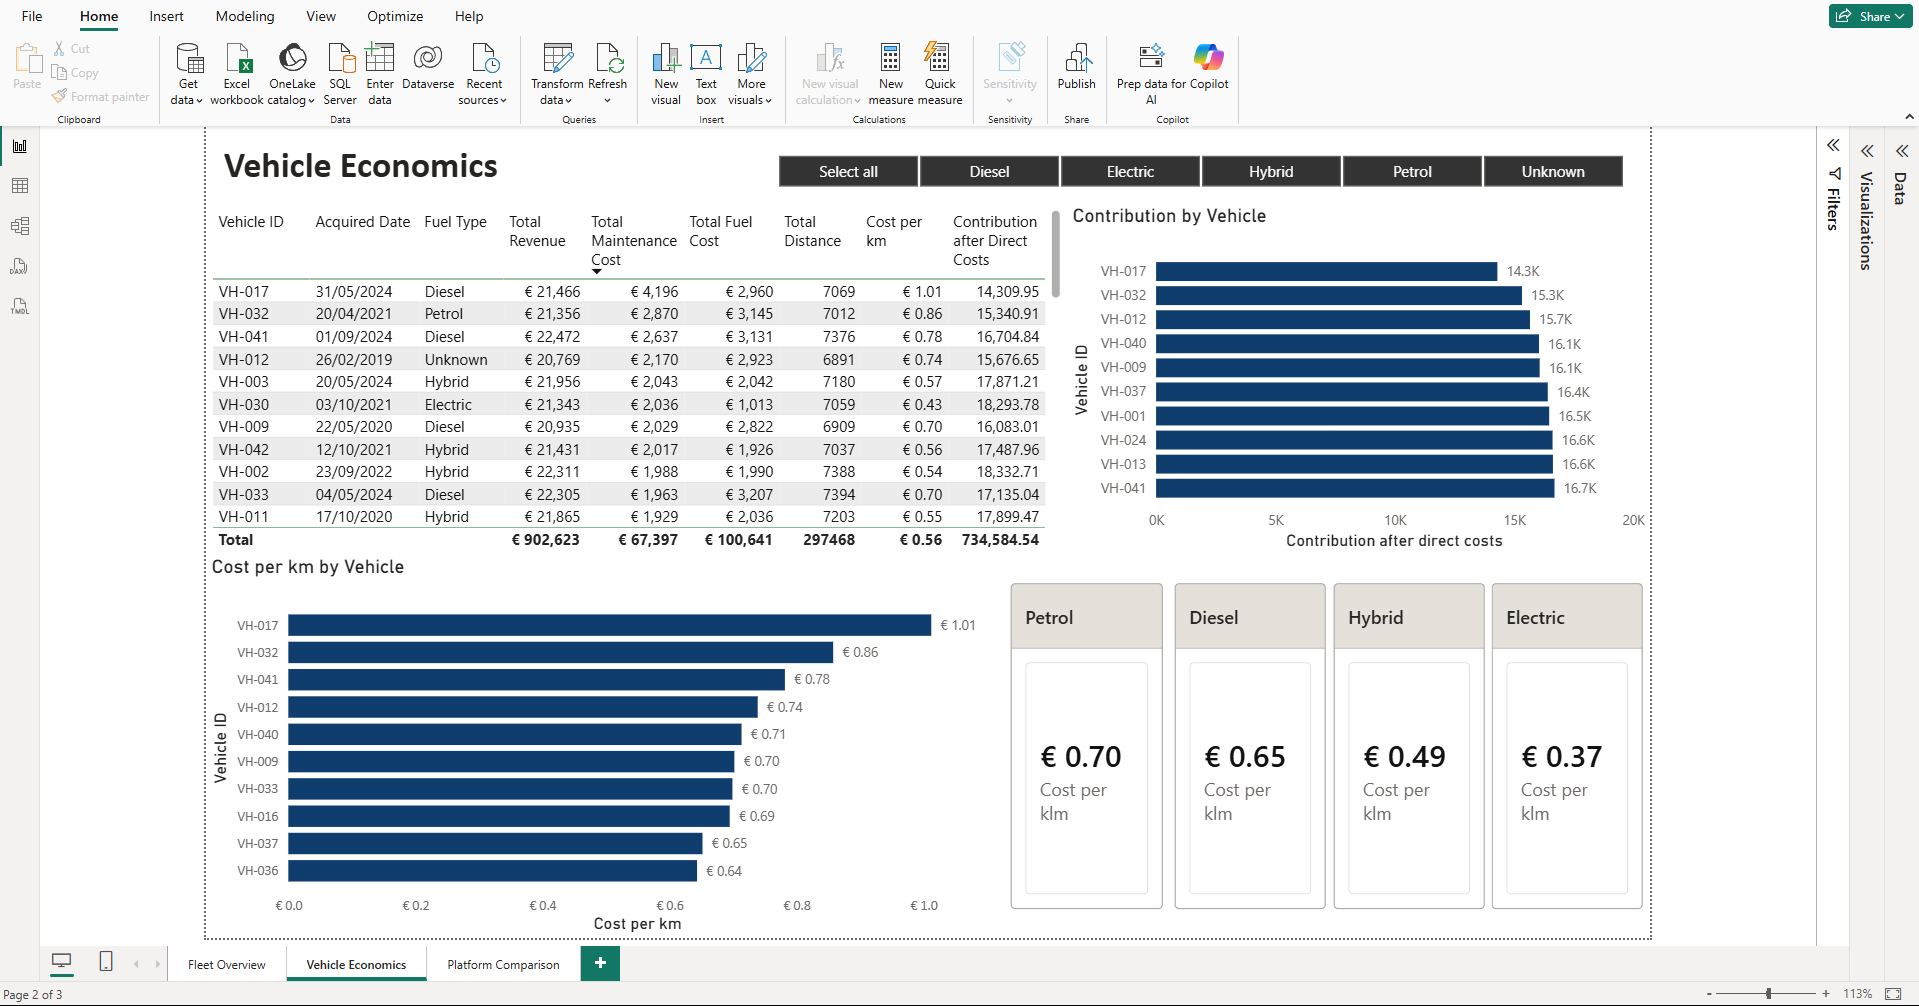

Layout of this report page (visuals, bound fields, positions):
{"tool":"powerbi","page":{"name":"Vehicle Economics","canvas":[1280,720],"ordinal":1},"visuals":[{"type":"tableEx","fields":{"Values":["Vehicles.vehicle_id","_Measures.Total Revenue","_Measures.Total Operating Cost","_Measures.Total Maintenance Cost","_Measures.Total Fuel Cost","_Measures.Total Distance","_Measures.Cost per klm","_Measures.Contribution after direct costs"]},"box":[0,69.5,709.5,311.2],"z":0},{"type":"clusteredBarChart","title":"Cost per km by Vehicle","fields":{"Category":["Vehicles.vehicle_id"],"Y":["_Measures.Cost per klm"]},"box":[0,380.7,709.5,339.6],"z":1000},{"type":"textbox","box":[10.3,10.3,1269.7,58.8],"z":2000},{"type":"clusteredBarChart","title":"Contribution by Vehicle","fields":{"Category":["Vehicles.vehicle_id"],"Y":["_Measures.Contribution after direct costs"]},"box":[709.5,69.5,570.5,311.2],"z":3000},{"type":"cardVisual","fields":{"Rows":["Vehicles.fuel_type"],"Data":["_Measures.Cost per klm"]},"box":[708.5,380.7,145.8,339.6],"z":4000},{"type":"cardVisual","fields":{"Rows":["Vehicles.fuel_type"],"Data":["_Measures.Cost per klm"]},"box":[1135.2,380.7,144.8,339.6],"z":5000},{"type":"cardVisual","fields":{"Rows":["Vehicles.fuel_type"],"Data":["_Measures.Cost per klm"]},"box":[854.3,380.7,144.8,339.6],"z":6000},{"type":"cardVisual","fields":{"Rows":["Vehicles.fuel_type"],"Data":["_Measures.Cost per klm"]},"box":[995.2,380.7,144.8,339.6],"z":7000},{"type":"slicer","fields":{"Values":["Vehicles.fuel_type"]},"box":[482,19.2,798,39.5],"z":7001}]}

Visuals, with their boxes on the page's 1280x720 design canvas (x1, y1, x2, y2). These are canvas units, not pixel positions in the 1919x1006 screenshot, which may show the page scaled, cropped or inside an application window:
tableEx - Vehicles.vehicle_id x _Measures.Total Revenue: detection(0, 70, 710, 381)
"Cost per km by Vehicle" clusteredBarChart: detection(0, 381, 710, 720)
textbox: detection(10, 10, 1280, 69)
"Contribution by Vehicle" clusteredBarChart: detection(710, 70, 1280, 381)
cardVisual - Vehicles.fuel_type x _Measures.Cost per klm: detection(708, 381, 854, 720)
cardVisual - Vehicles.fuel_type x _Measures.Cost per klm: detection(1135, 381, 1280, 720)
cardVisual - Vehicles.fuel_type x _Measures.Cost per klm: detection(854, 381, 999, 720)
cardVisual - Vehicles.fuel_type x _Measures.Cost per klm: detection(995, 381, 1140, 720)
slicer - Vehicles.fuel_type: detection(482, 19, 1280, 59)
